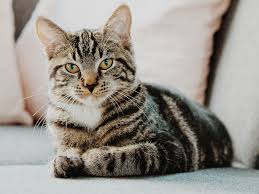Gato: (28, 8, 165, 128)
